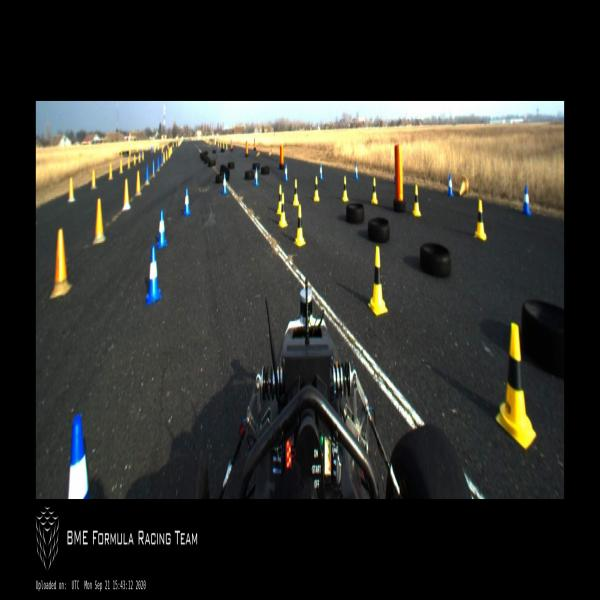blue_cone: (68, 415, 91, 499), (146, 245, 161, 303), (157, 210, 167, 246), (522, 187, 530, 214), (183, 188, 190, 215), (222, 173, 228, 193), (448, 174, 453, 195), (254, 168, 258, 186), (284, 164, 288, 180), (319, 164, 323, 179), (355, 163, 358, 178)
unknown_cone: (50, 230, 72, 296), (92, 199, 106, 245), (122, 179, 131, 209), (135, 172, 142, 196), (68, 178, 75, 202), (91, 169, 97, 188), (145, 164, 149, 184), (109, 164, 113, 180), (119, 159, 123, 173), (152, 158, 155, 176), (156, 157, 160, 170), (127, 157, 131, 168), (161, 153, 163, 166), (134, 154, 136, 165), (138, 152, 140, 162), (142, 150, 144, 158)
yellow_cone: (496, 324, 535, 448), (368, 246, 388, 315), (475, 199, 487, 240), (294, 205, 305, 246), (278, 193, 288, 227), (413, 185, 421, 216), (276, 185, 282, 213), (460, 176, 468, 195), (342, 176, 348, 200), (293, 180, 299, 204), (372, 178, 377, 203), (314, 178, 319, 200)
